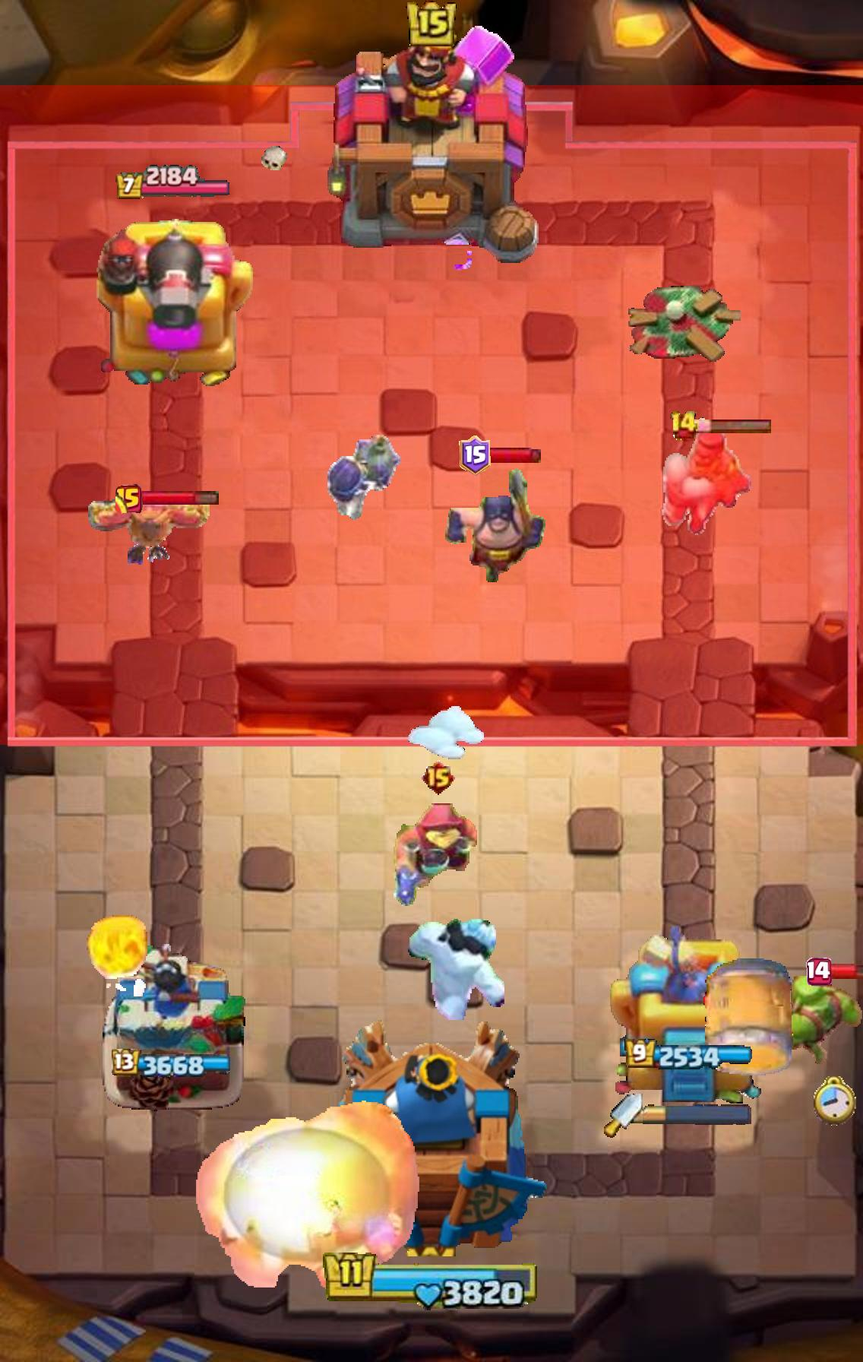fireball: (188, 1098, 434, 1299), (81, 905, 154, 996)
ice-golem: (407, 914, 504, 1020)
